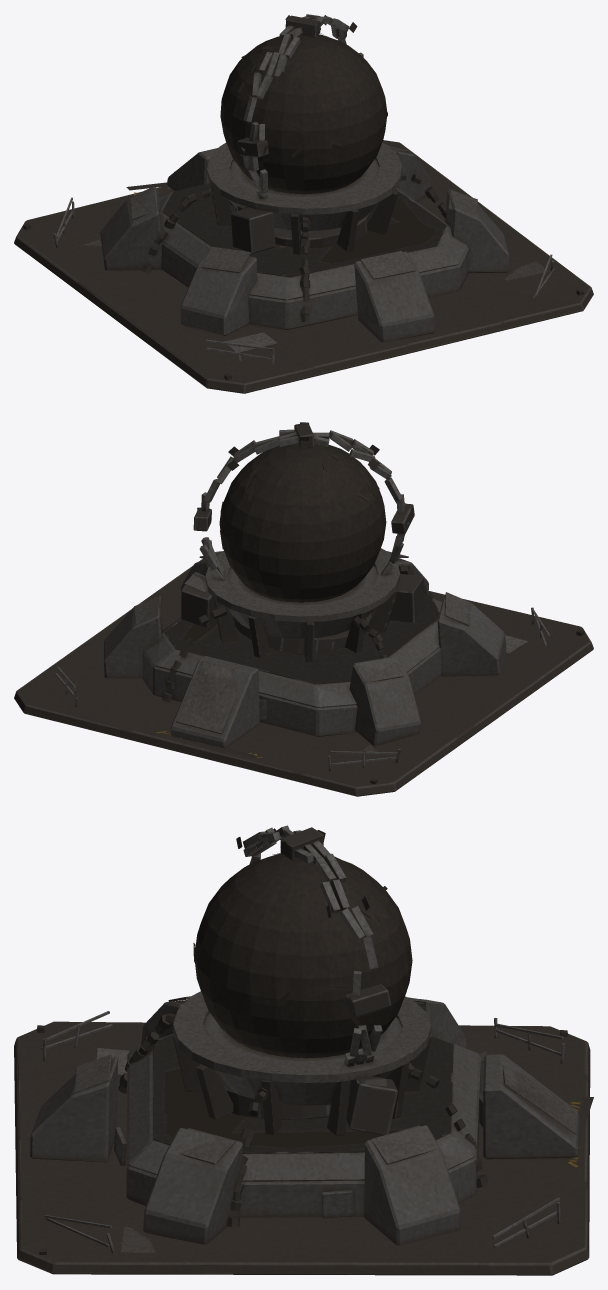
The model's file is chs_advfusion_wreck.fbx.
The picture shows the model from 3 angles, top to bottom: view 1: azimuth 30°, elevation 25°; view 2: azimuth 150°, elevation 25°; view 3: azimuth 270°, elevation 25°; orthographic projection. The views are drawn at different scales.
Visible parts, largest first — view 1: base_bar, core_bar; view 2: base_bar, core_bar; view 3: base_bar, core_bar.
Part boxes in pixels (<box>): base_bar: <box>14,14,593,393</box>; core_bar: <box>220,33,387,194</box>; base_bar: <box>14,422,593,796</box>; core_bar: <box>219,443,386,602</box>; base_bar: <box>14,825,593,1275</box>; core_bar: <box>193,853,412,1058</box>.
Size of the model in its own units: 4789 by 3127 by 4814.
Materials: 2 (2 with a texture image).
